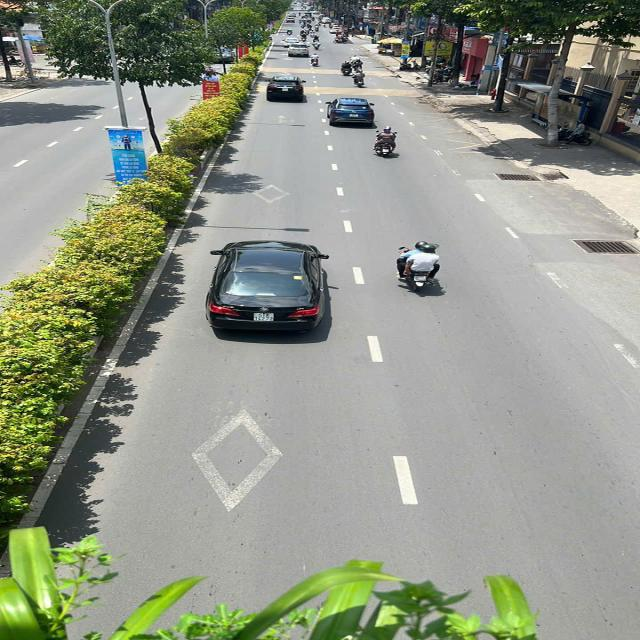car: (207, 238, 332, 335), (329, 95, 375, 127), (267, 74, 307, 102), (288, 41, 310, 57), (283, 35, 302, 48), (330, 25, 346, 33), (285, 15, 298, 24)
motobyte: (395, 240, 447, 295), (371, 124, 402, 160), (348, 65, 369, 89), (351, 52, 368, 71), (340, 59, 356, 78), (310, 49, 323, 71), (332, 32, 350, 46), (311, 32, 324, 48), (299, 30, 308, 42), (286, 25, 294, 36), (314, 22, 322, 33), (300, 21, 308, 30)
